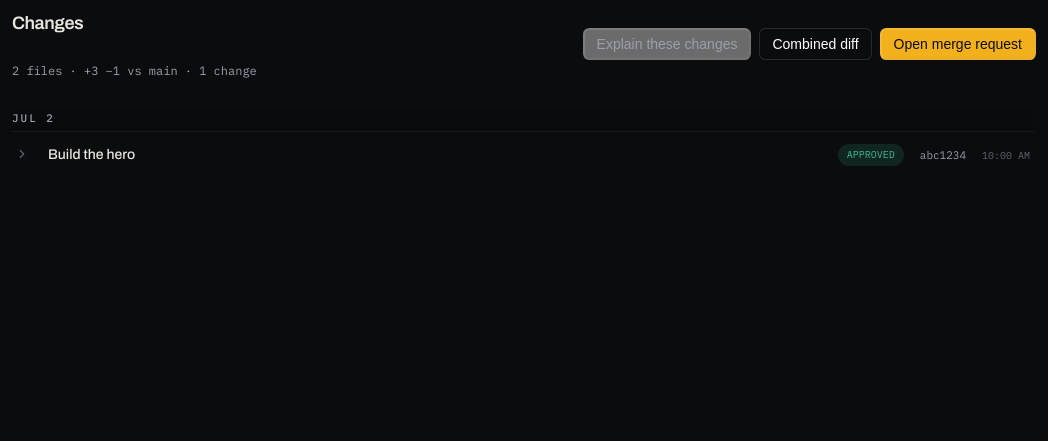
Test: Changes commit list › combined diff: toggled open, groups files by folder and mounts bodies only when expanded
Click the button "Combined diff": coordinates (816, 44) [760,28,872,60]
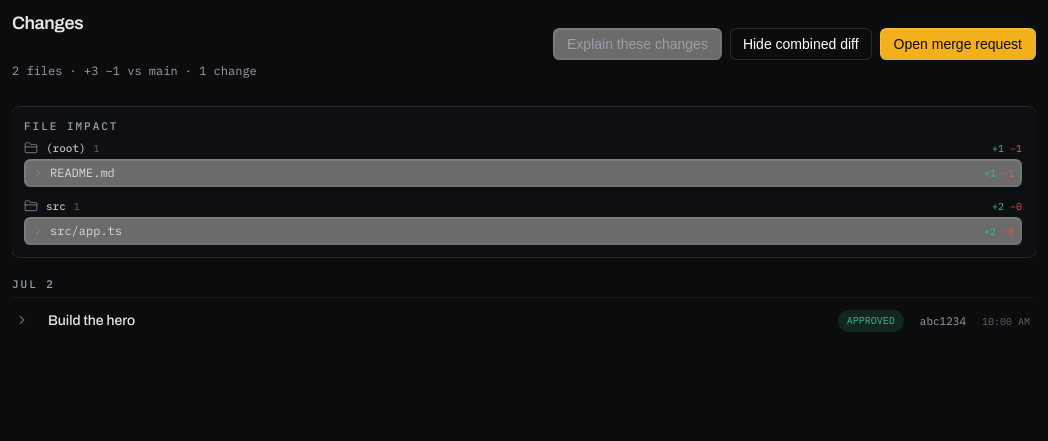
Expected: the text "+one" is not shown
Expected: the text "src" is shown, [46,199,66,213]
Expected: the text "(root)" is shown, [46,141,86,155]
Click the button "src/app.ts +2 −0": coordinates (86, 231) [24,217,1022,245]
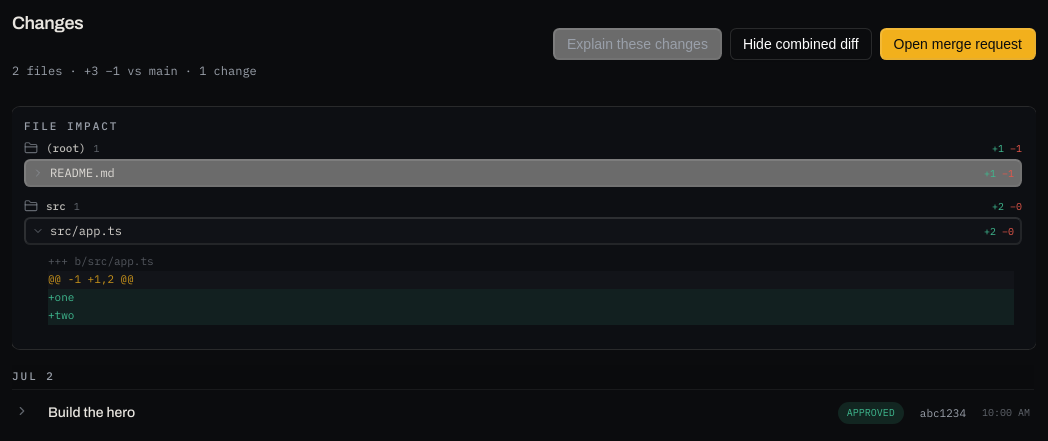
Expected: the text "+one" is shown, [48,289,1014,307]
